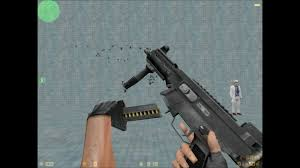gun: (120, 42, 261, 166)
